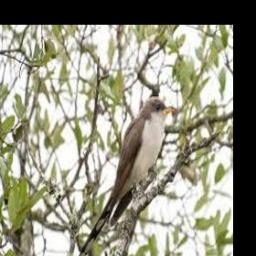Cuckoo: (76, 96, 173, 256)
